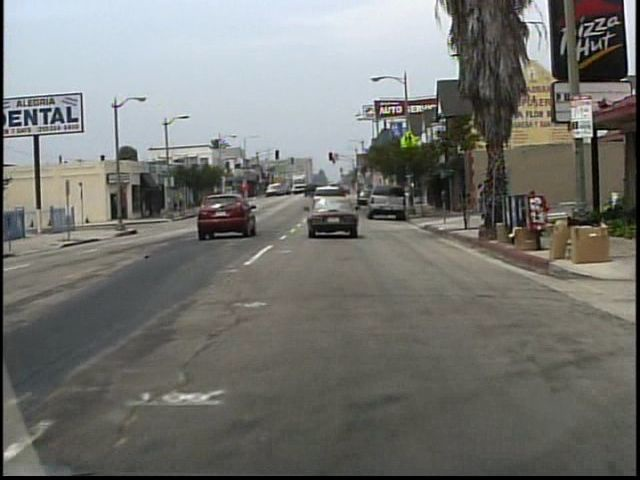person: (484, 179, 495, 215), (475, 183, 484, 212)
